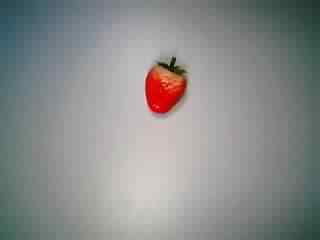strawberry: (130, 53, 196, 115)
